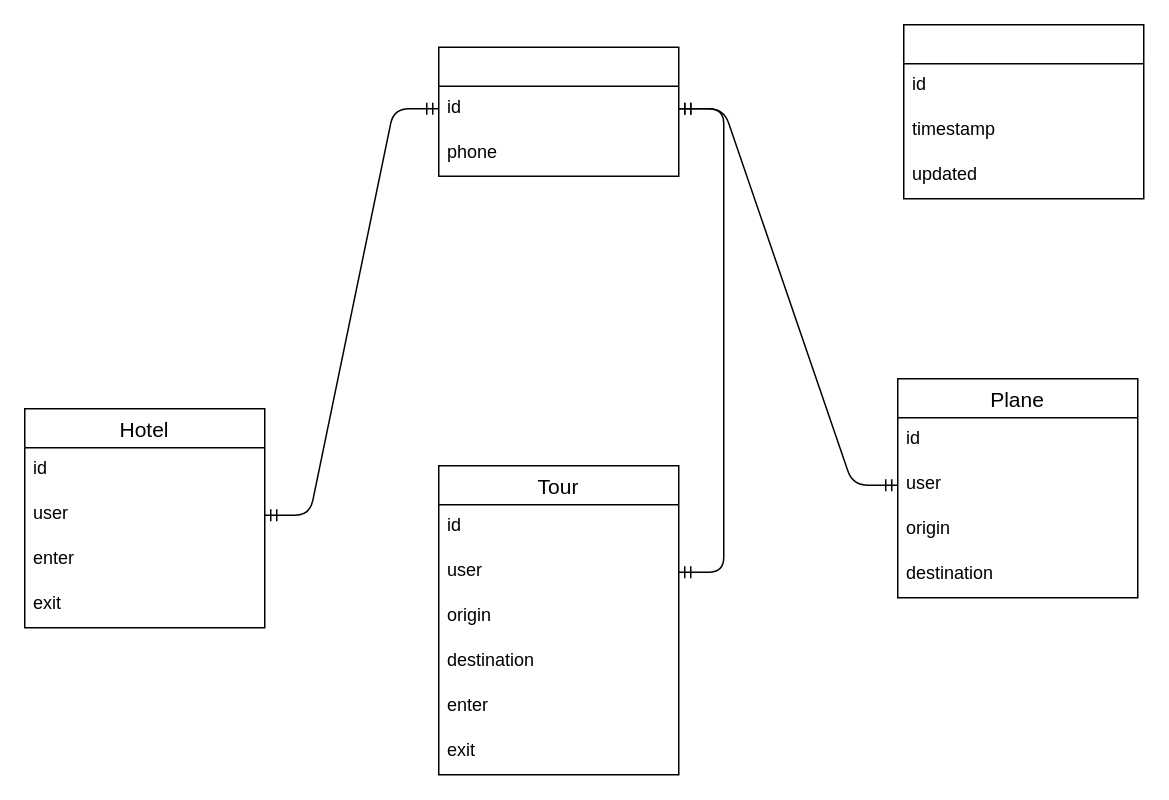
This 1169x800 diagram has some shape labels left out. The box of each missing label's shape, as (x1, y1, x2, y2) in pixels:
BaseModel: (902, 23, 1144, 199)
Profile: (437, 46, 679, 176)
